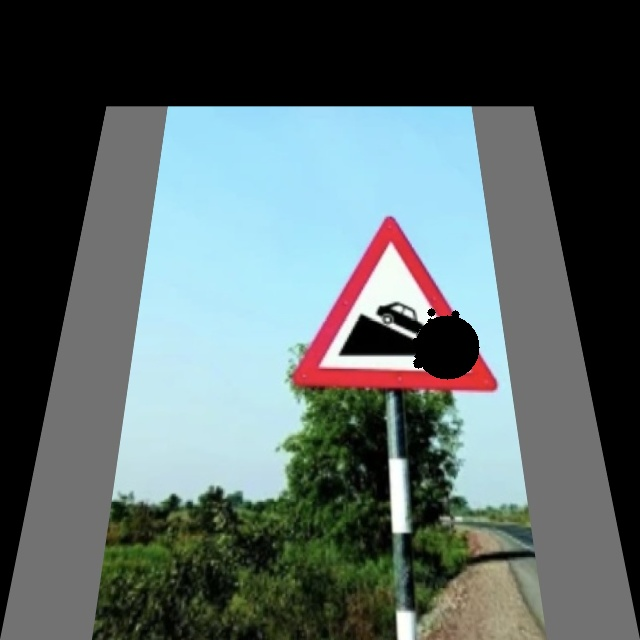Steep_Descent: (293, 217, 500, 391)
